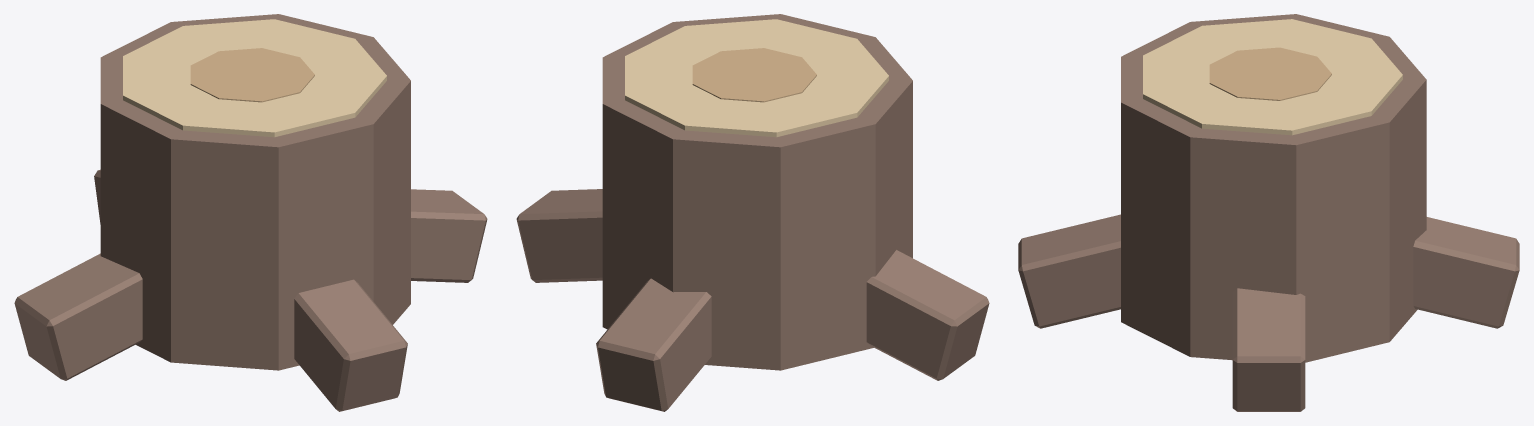
The model's file is stump.fbx.
The picture shows the model from 3 angles, left to right: view 1: azimuth 30°, elevation 25°; view 2: azimuth 150°, elevation 25°; view 3: azimuth 270°, elevation 25°; orthographic projection.
Parts seen in each view (by area): view 1: stump_mesh; view 2: stump_mesh; view 3: stump_mesh.
Boxes of the visible parts, x1,y1,x2,y2 form: stump_mesh: [14, 14, 487, 411]; stump_mesh: [516, 14, 989, 411]; stump_mesh: [1018, 14, 1519, 411].
Bounding box in the file's own units: 1.24 × 0.6599 × 1.24.
